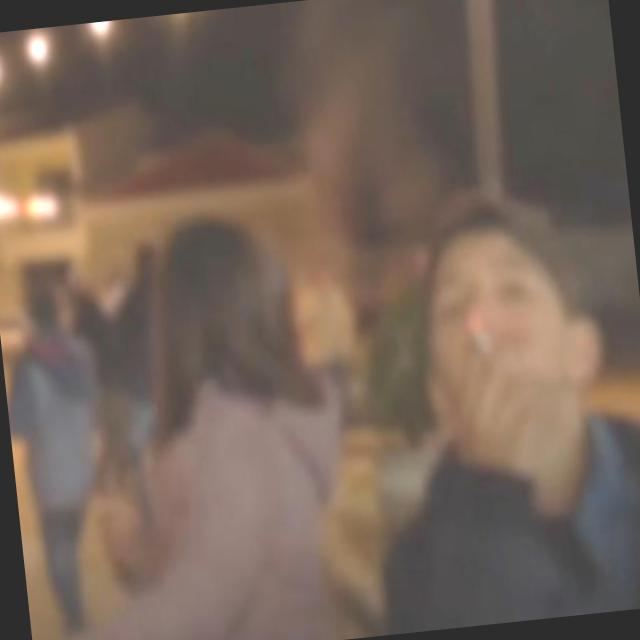smoke: (451, 294, 524, 397)
